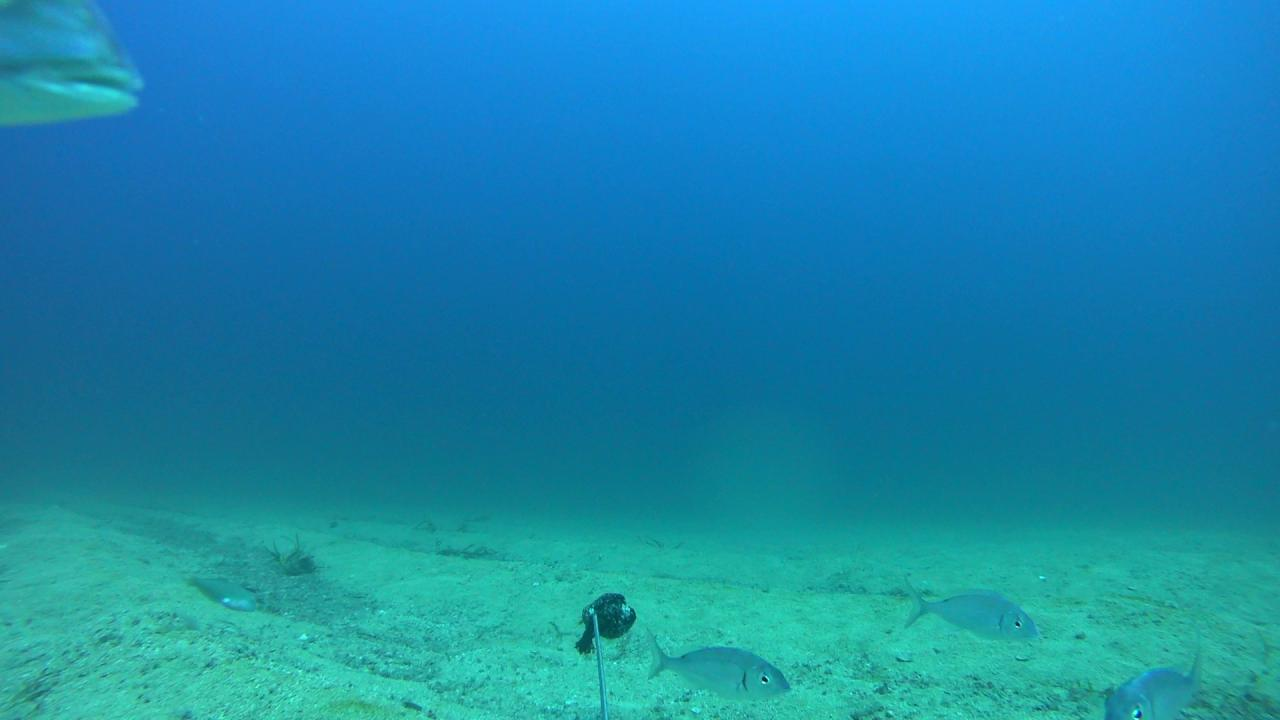pagellus: (645, 629, 791, 701), (900, 573, 1038, 640)
